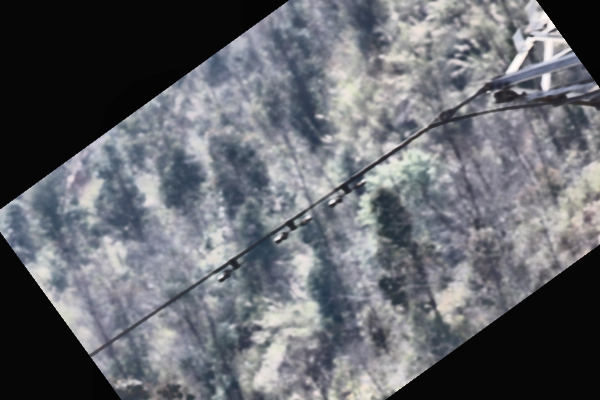damper: (270, 212, 313, 245), (324, 177, 368, 209)
damper_defect: (216, 257, 247, 285)
